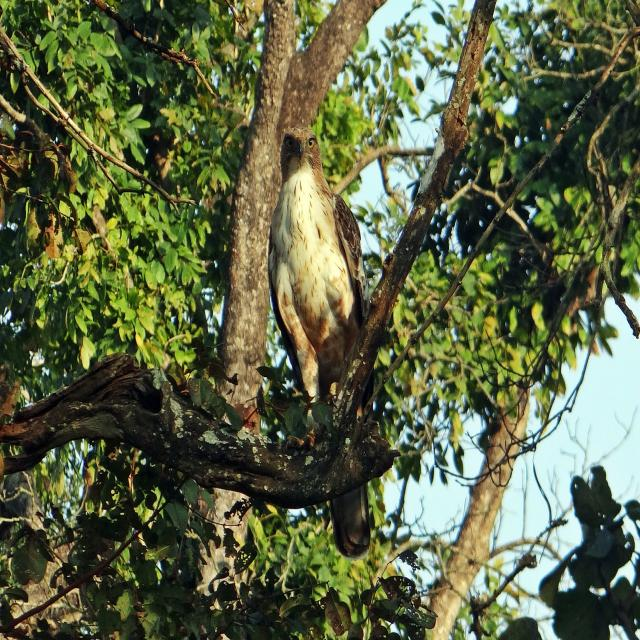Elang Jawa: (256, 110, 408, 566)
